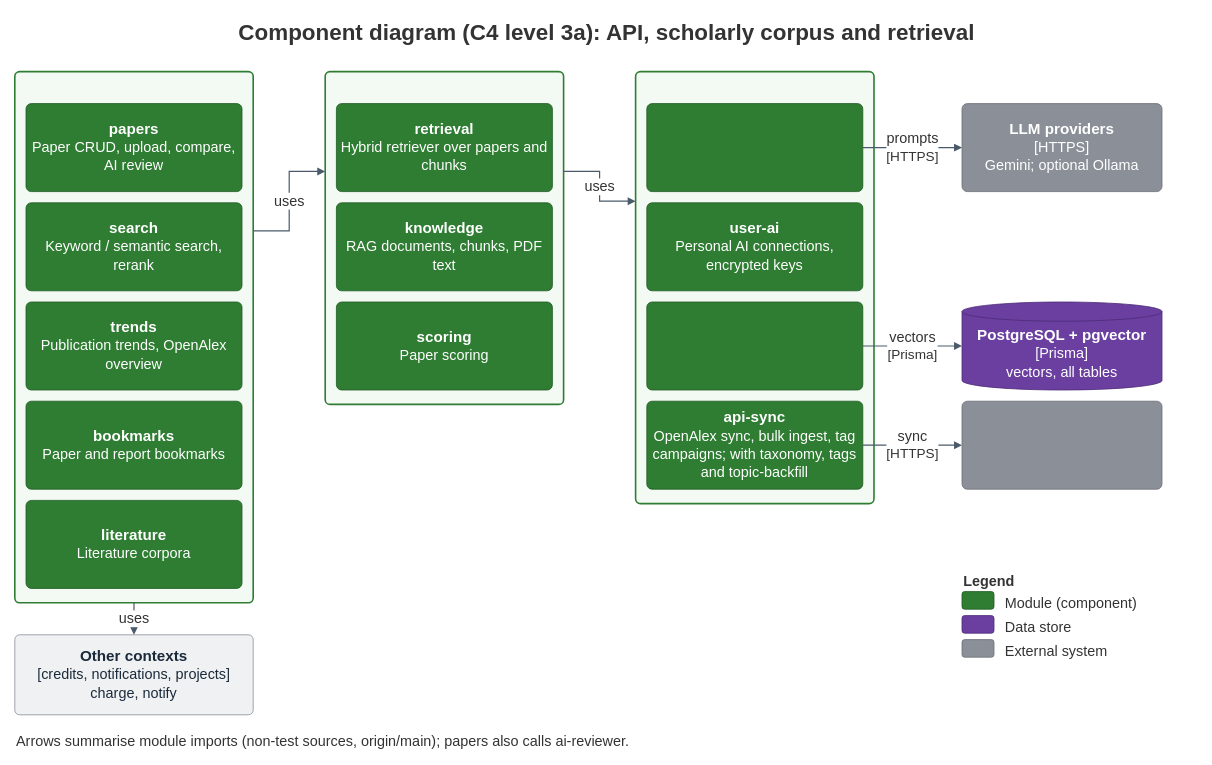
This 1212x765 diagram has some shape labels left out. Each missing label, with the box of its shape:
embeddings Embedding provider, vector writes: (646, 301, 863, 390)
Feature modules: (14, 70, 254, 603)
llm Gemini / Ollama clients, Redis cache: (646, 103, 863, 192)
LLM, embedding, sync: (634, 70, 874, 504)
OpenAlex [HTTPS] api.openalex.org: (961, 400, 1162, 489)
Retrieval services: (324, 70, 564, 405)
